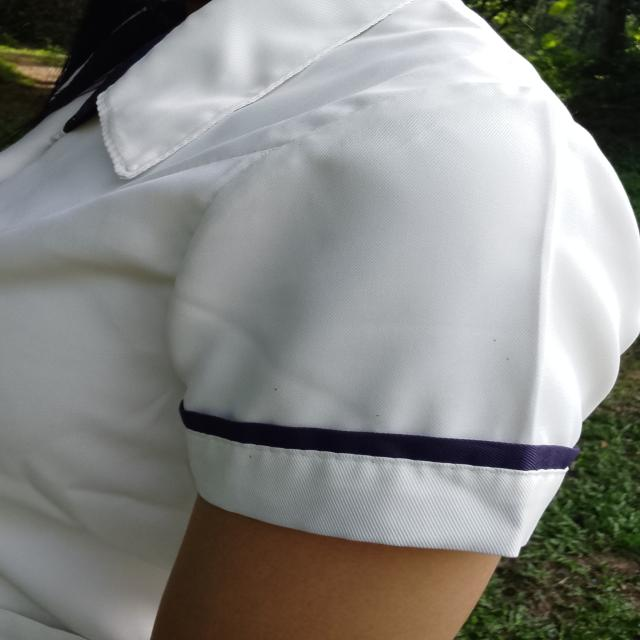education_female_uniform: (2, 19, 624, 640)
